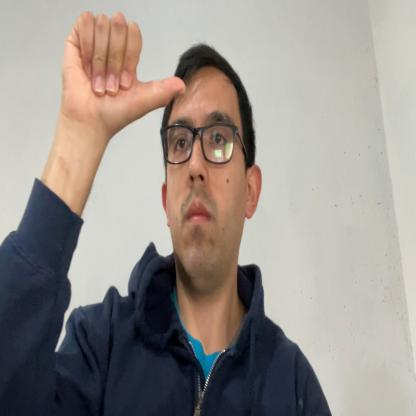A: (58, 11, 187, 132)
